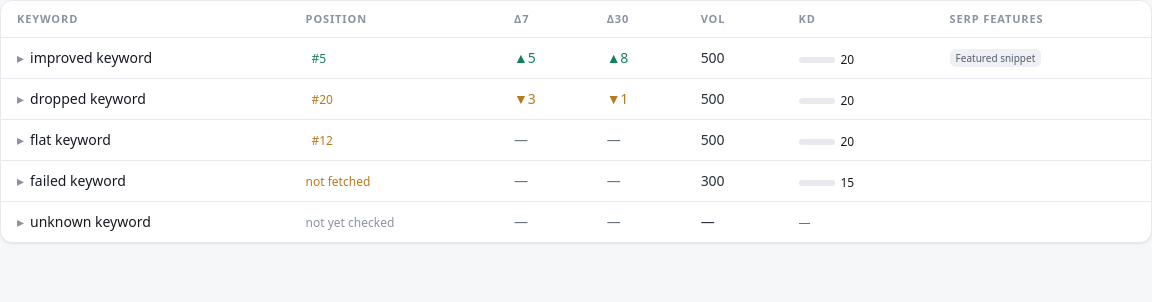
Test: RankingsTable › shows an inline error and no fake chart when the history fetch fails
Click the button "▸ improved keyword": point(85, 58) top-left (17, 48), bottom-right (152, 68)
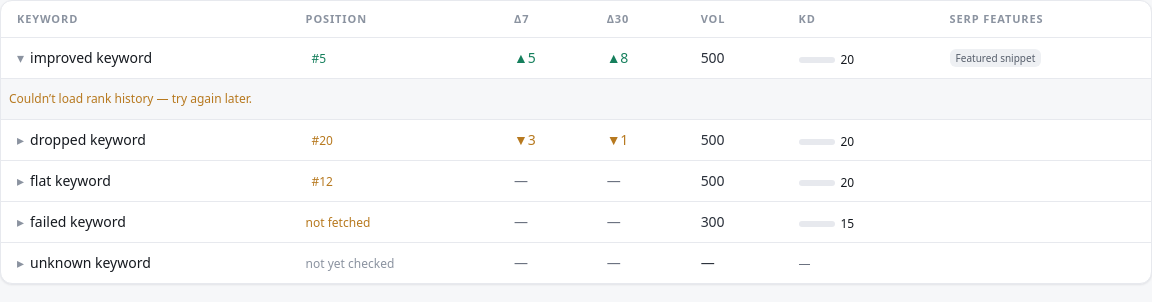
Check: the text "Couldn’t load rank history — try again later." is shown, box top-left (9, 90), bottom-right (252, 107)
